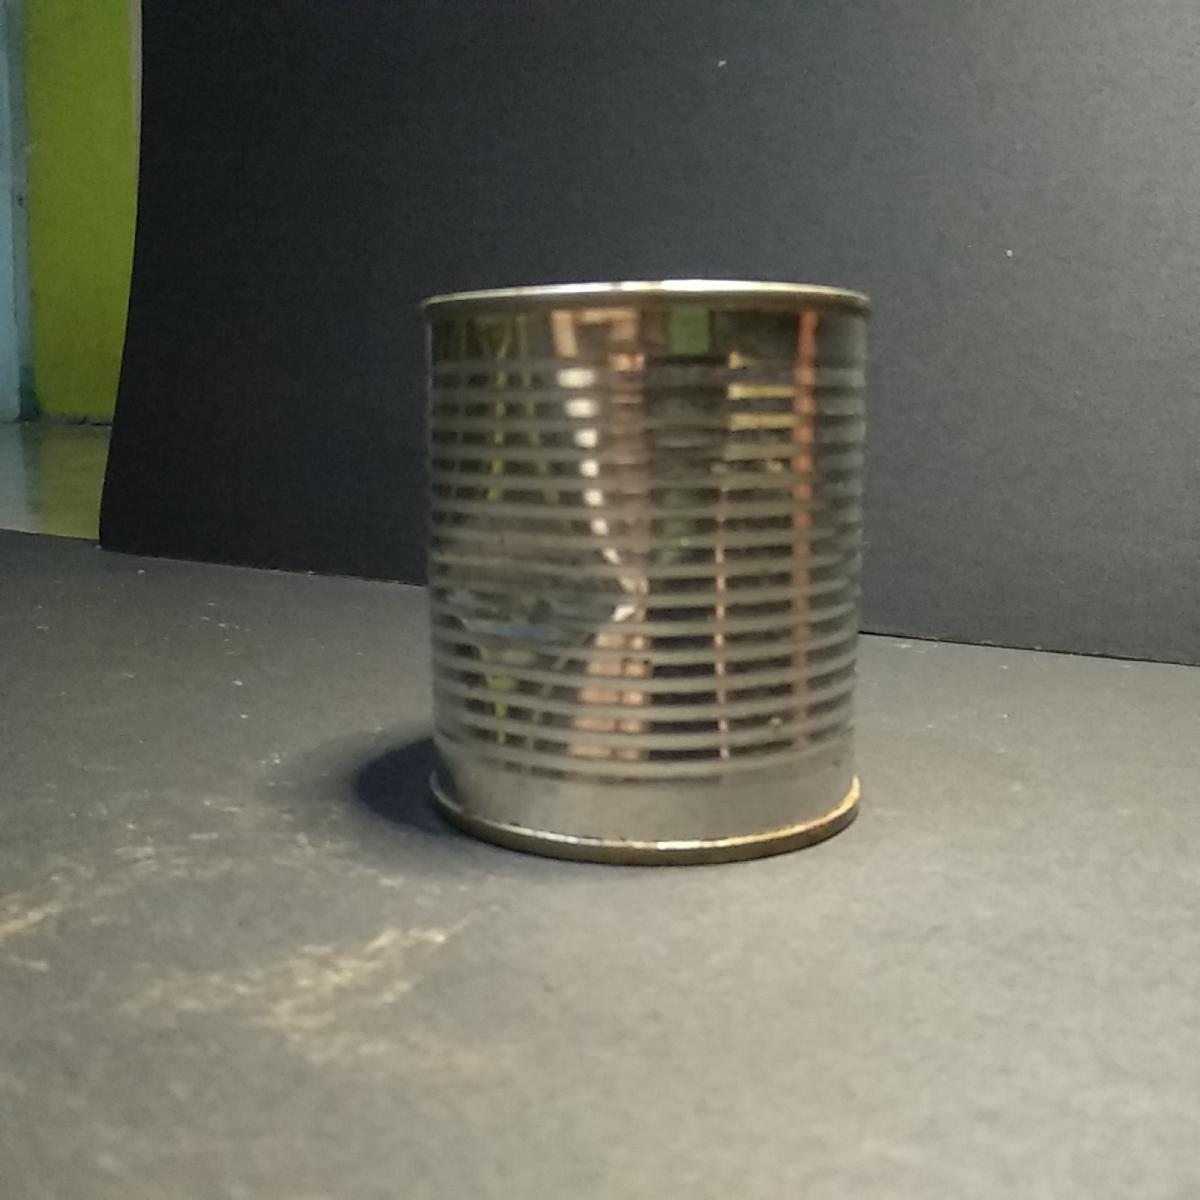Dented: (414, 276, 886, 878)
